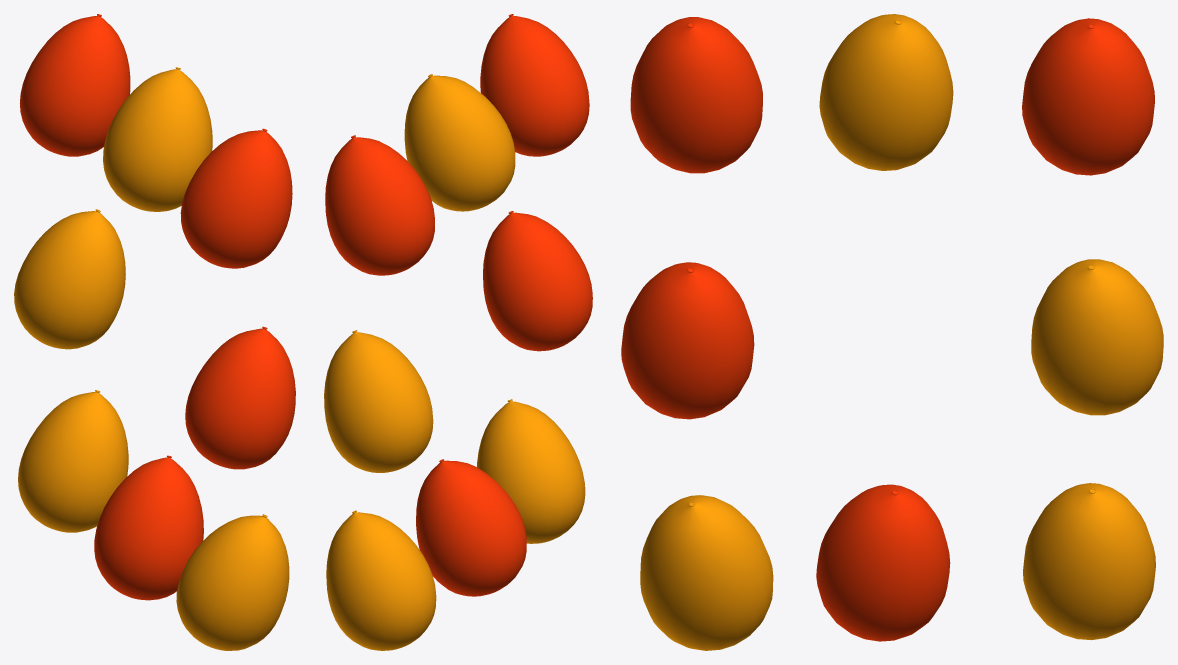
The model's file is SM_Ballons_01.fbx.
3 renders of one model, left to right at view 1: azimuth 30°, elevation 25°; view 2: azimuth 150°, elevation 25°; view 3: azimuth 270°, elevation 25°, orthographic. The views are drawn at different scales.
Parts seen in each view (by area): view 1: SM_Ballons_01_LOD0; view 2: SM_Ballons_01_LOD0; view 3: SM_Ballons_01_LOD0.
Boxes of the visible parts, x1=… form: SM_Ballons_01_LOD0: x1=14, y1=14, x2=295, y2=650; SM_Ballons_01_LOD0: x1=324, y1=14, x2=592, y2=650; SM_Ballons_01_LOD0: x1=621, y1=14, x2=1163, y2=650.
Bounding box in the file's own units: 19.15 × 66.62 × 86.57.
Materials: 1 (1 with a texture image).
